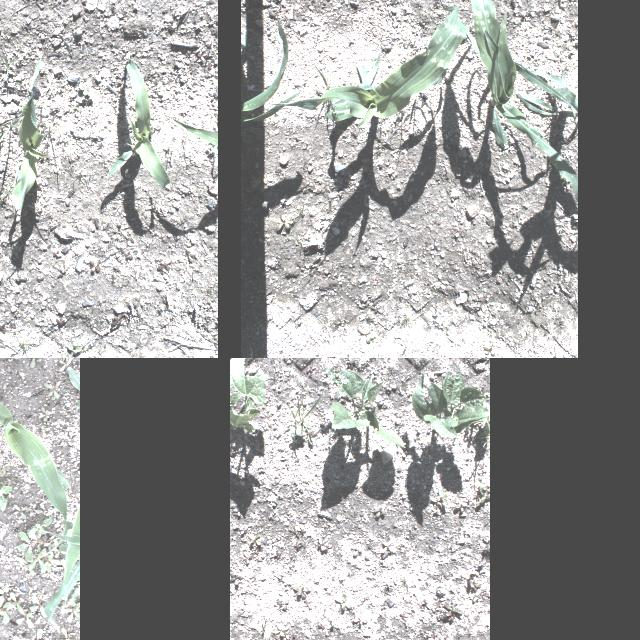crop: (264, 5, 468, 133), (0, 385, 73, 552), (108, 52, 172, 188), (242, 10, 304, 124), (12, 59, 56, 210), (326, 365, 406, 447), (412, 358, 490, 436), (38, 503, 80, 632), (506, 58, 578, 119), (230, 358, 266, 434), (170, 118, 218, 146), (289, 422, 315, 444), (68, 366, 80, 408)
weed: (464, 0, 578, 202), (279, 387, 325, 443), (0, 101, 46, 153), (17, 528, 57, 564), (9, 328, 33, 358), (28, 516, 54, 540), (52, 586, 78, 610), (39, 549, 63, 573), (14, 604, 36, 630), (0, 595, 17, 627), (30, 591, 48, 619), (28, 548, 48, 570), (8, 590, 24, 614), (18, 557, 36, 577), (43, 380, 61, 400), (60, 606, 80, 624), (288, 205, 304, 227), (0, 480, 11, 511), (272, 622, 290, 640), (445, 602, 463, 620), (274, 215, 294, 231), (358, 326, 374, 344), (12, 503, 28, 521), (334, 595, 352, 611), (475, 483, 489, 503), (58, 626, 77, 640), (294, 234, 310, 250), (26, 502, 42, 518), (432, 489, 448, 505), (24, 358, 45, 370), (57, 358, 72, 374), (158, 258, 175, 272), (26, 627, 44, 640), (78, 82, 94, 96), (38, 406, 52, 422), (35, 586, 49, 600), (318, 538, 332, 552), (294, 586, 308, 600), (468, 578, 482, 592), (66, 342, 82, 354), (398, 312, 410, 328), (230, 571, 243, 585), (276, 599, 290, 611), (3, 358, 14, 373), (54, 543, 64, 559), (352, 614, 368, 624), (0, 465, 10, 480), (483, 344, 495, 356), (4, 476, 16, 488), (56, 517, 68, 529), (373, 504, 385, 516), (382, 540, 394, 552), (90, 260, 100, 274), (40, 424, 50, 438), (248, 534, 262, 544), (0, 459, 8, 475), (472, 590, 482, 602), (258, 633, 275, 640), (244, 550, 252, 564), (294, 524, 308, 532), (25, 580, 33, 592), (208, 143, 216, 153), (238, 526, 248, 534), (304, 600, 312, 610), (434, 635, 449, 640), (232, 508, 240, 516), (330, 616, 336, 626), (377, 142, 387, 146), (0, 384, 3, 396)
